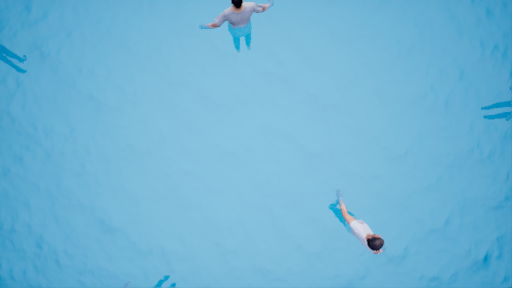person: (193, 2, 282, 55), (322, 189, 394, 254)
